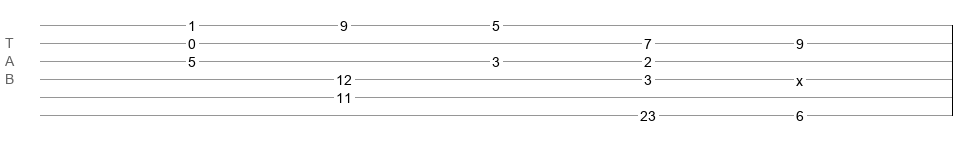0: (188, 36, 196, 46)
1: (188, 18, 196, 28)
11: (336, 90, 352, 100)
12: (336, 72, 352, 82)
2: (644, 54, 652, 64)
23: (640, 108, 656, 118)
3: (492, 54, 500, 64), (644, 72, 652, 82)
5: (188, 54, 196, 64), (492, 18, 500, 28)
6: (796, 108, 804, 118)
7: (644, 36, 652, 46)
9: (340, 18, 348, 28), (796, 36, 804, 46)
x: (796, 73, 803, 81)
